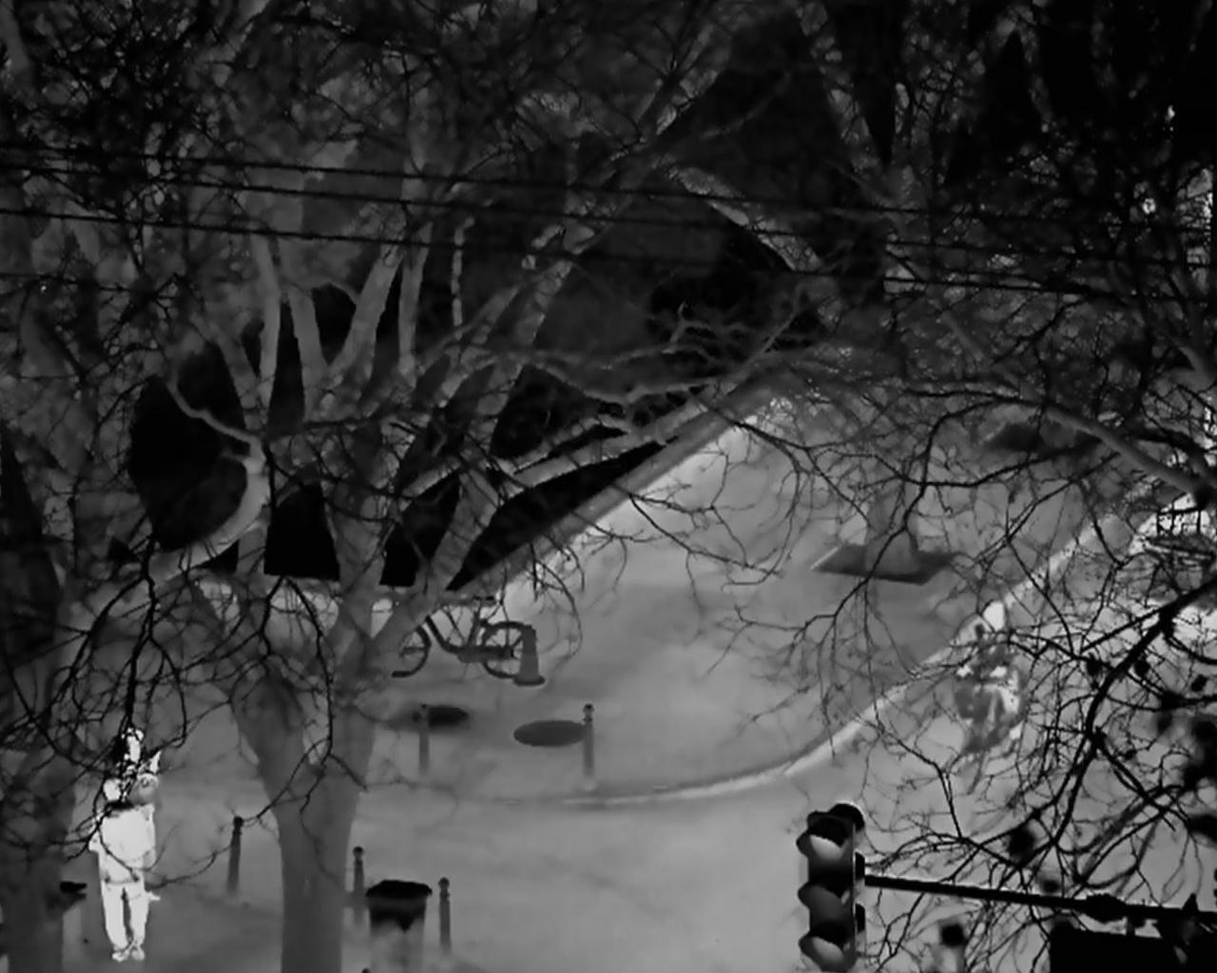person: (82, 778, 154, 964)
